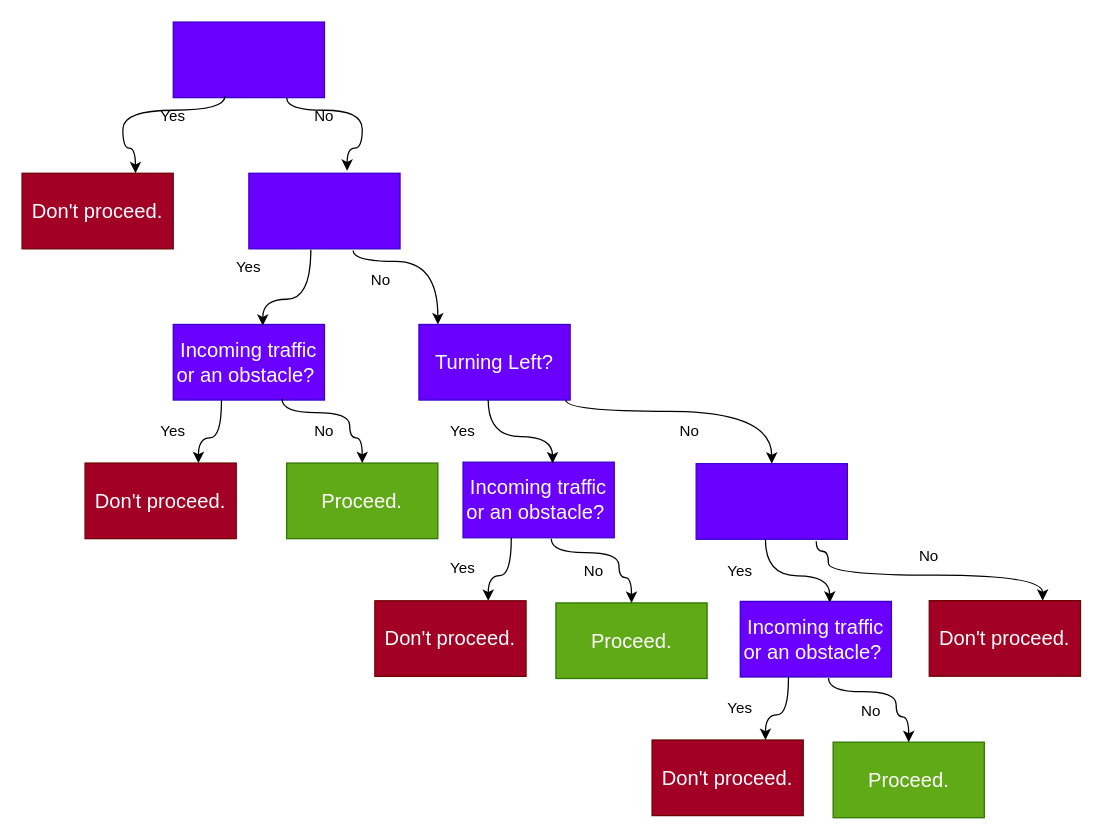
Some shapes in this 1103 by 840 pixel diagram are drawn without their labels. The box of each missing label's shape, as (x1, y1, x2, y2) in pixels:
Moving forward?: (695, 462, 847, 539)
Turning Right?: (248, 172, 400, 249)
Vehicles Upfront?: (172, 21, 324, 98)
